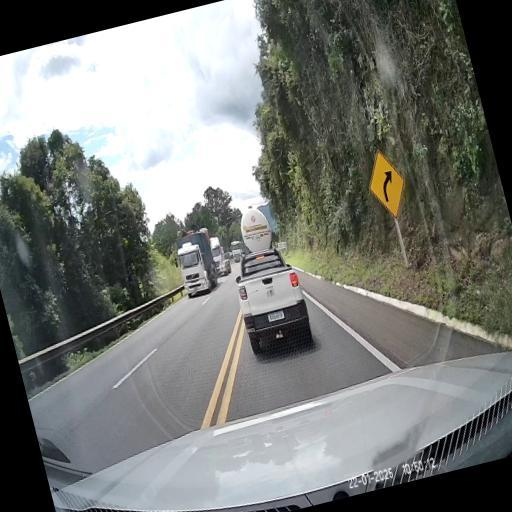A-2b: (360, 144, 414, 222)
